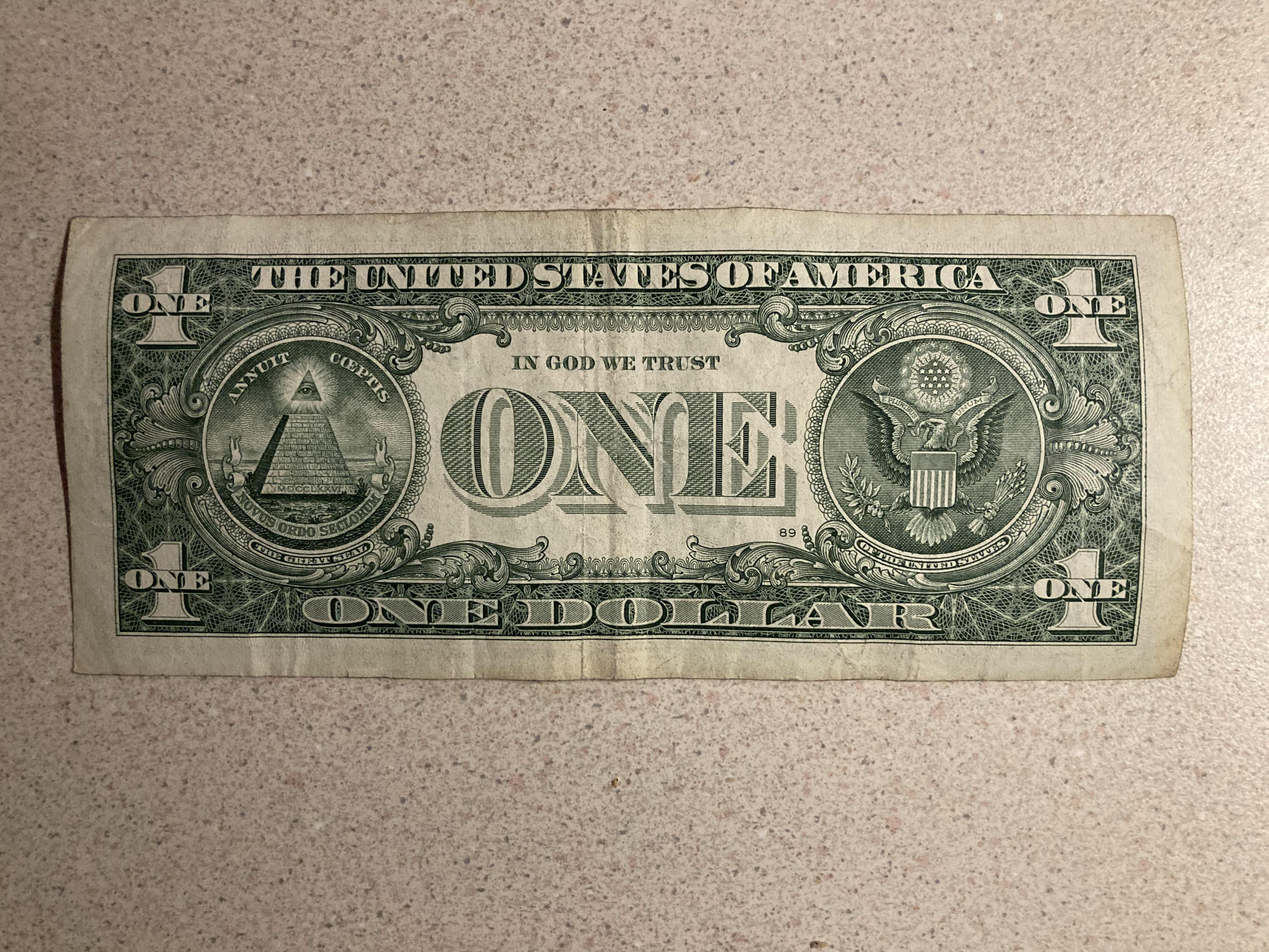one-back: (57, 207, 1199, 682)
